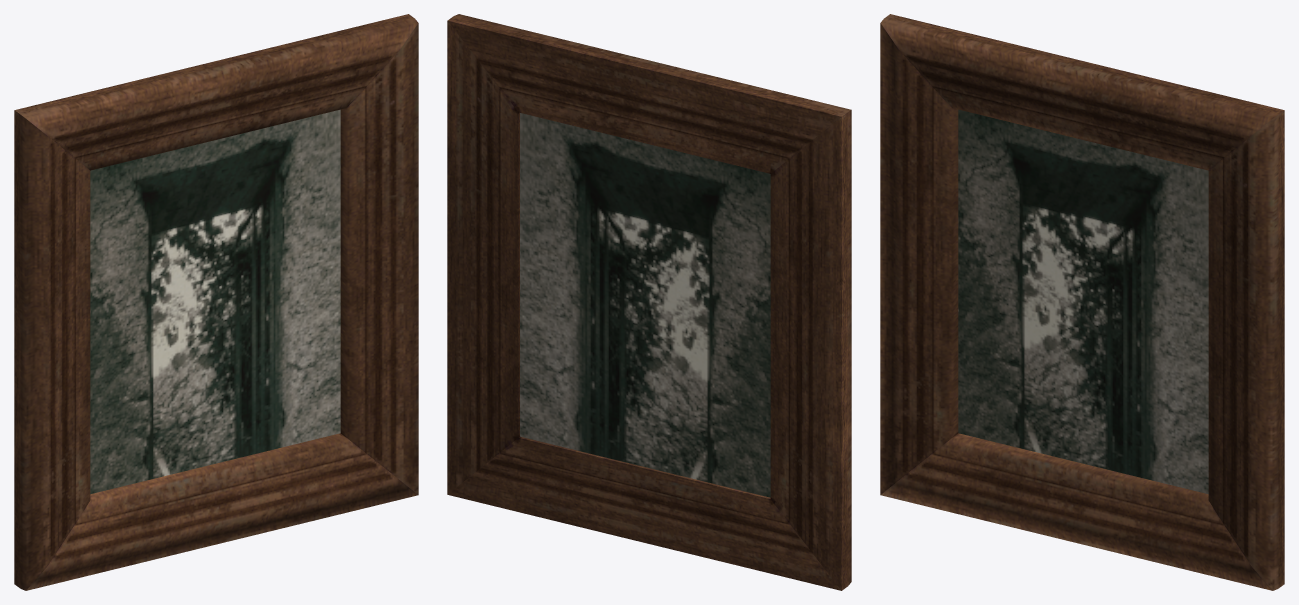
Rendered from Picture_6_Medium_Framed.FBX.
3 renders of one model, left to right at view 1: azimuth 30°, elevation 25°; view 2: azimuth 150°, elevation 25°; view 3: azimuth 330°, elevation 25°, orthographic.
Parts seen in each view (by area): view 1: Picture_6_Medium_Framed; view 2: Picture_6_Medium_Framed; view 3: Picture_6_Medium_Framed.
Boxes of the visible parts, x1,y1,x2,y2 form: Picture_6_Medium_Framed: (14,14,418,590); Picture_6_Medium_Framed: (447,14,851,590); Picture_6_Medium_Framed: (880,14,1284,590).
Bounding box in the file's own units: 59.2 × 68.03 × 3.18.
